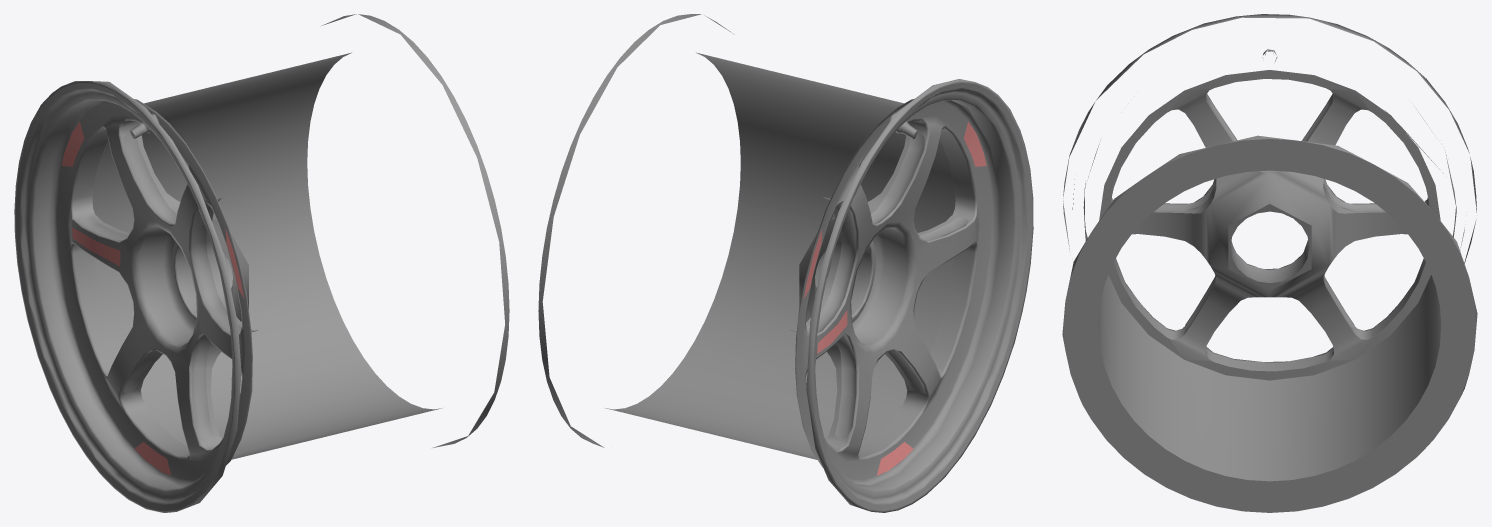
Rendered from nissan_gtr_gt3_2017_rim_rf_Lod1.gltf.
The picture shows the model from 3 angles, left to right: view 1: azimuth 30°, elevation 25°; view 2: azimuth 150°, elevation 25°; view 3: azimuth 270°, elevation 25°; orthographic projection. The views are drawn at different scales.
Visible parts, largest first — view 1: nissan_gtr_gt3_2017_rim_rf_Lod1; view 2: nissan_gtr_gt3_2017_rim_rf_Lod1; view 3: nissan_gtr_gt3_2017_rim_rf_Lod1.
Part boxes in pixels (<box>): nissan_gtr_gt3_2017_rim_rf_Lod1: <box>14,14,509,512</box>; nissan_gtr_gt3_2017_rim_rf_Lod1: <box>538,14,1033,512</box>; nissan_gtr_gt3_2017_rim_rf_Lod1: <box>1062,14,1477,512</box>.
Bounding box in the file's own units: 0.3575 × 0.5021 × 0.5018.
